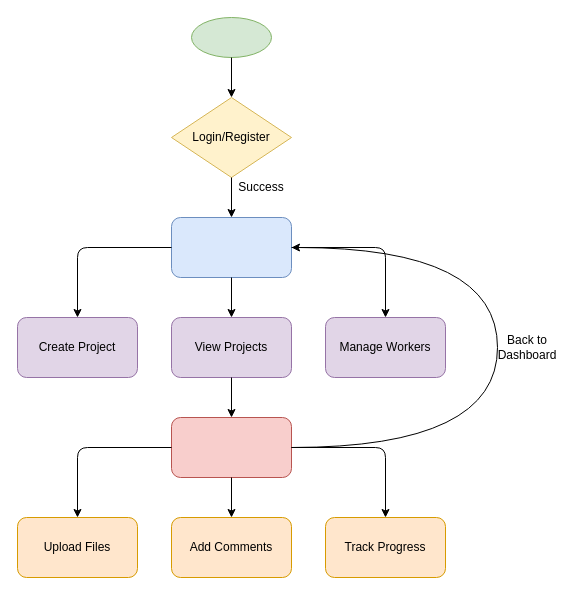
This 575x595 diagram has some shape labels left out. Each missing label, with the centre of its shape:
"Dashboard" goes at (x=231, y=247).
"Project Details" goes at (x=231, y=447).
"Start" goes at (x=231, y=37).
